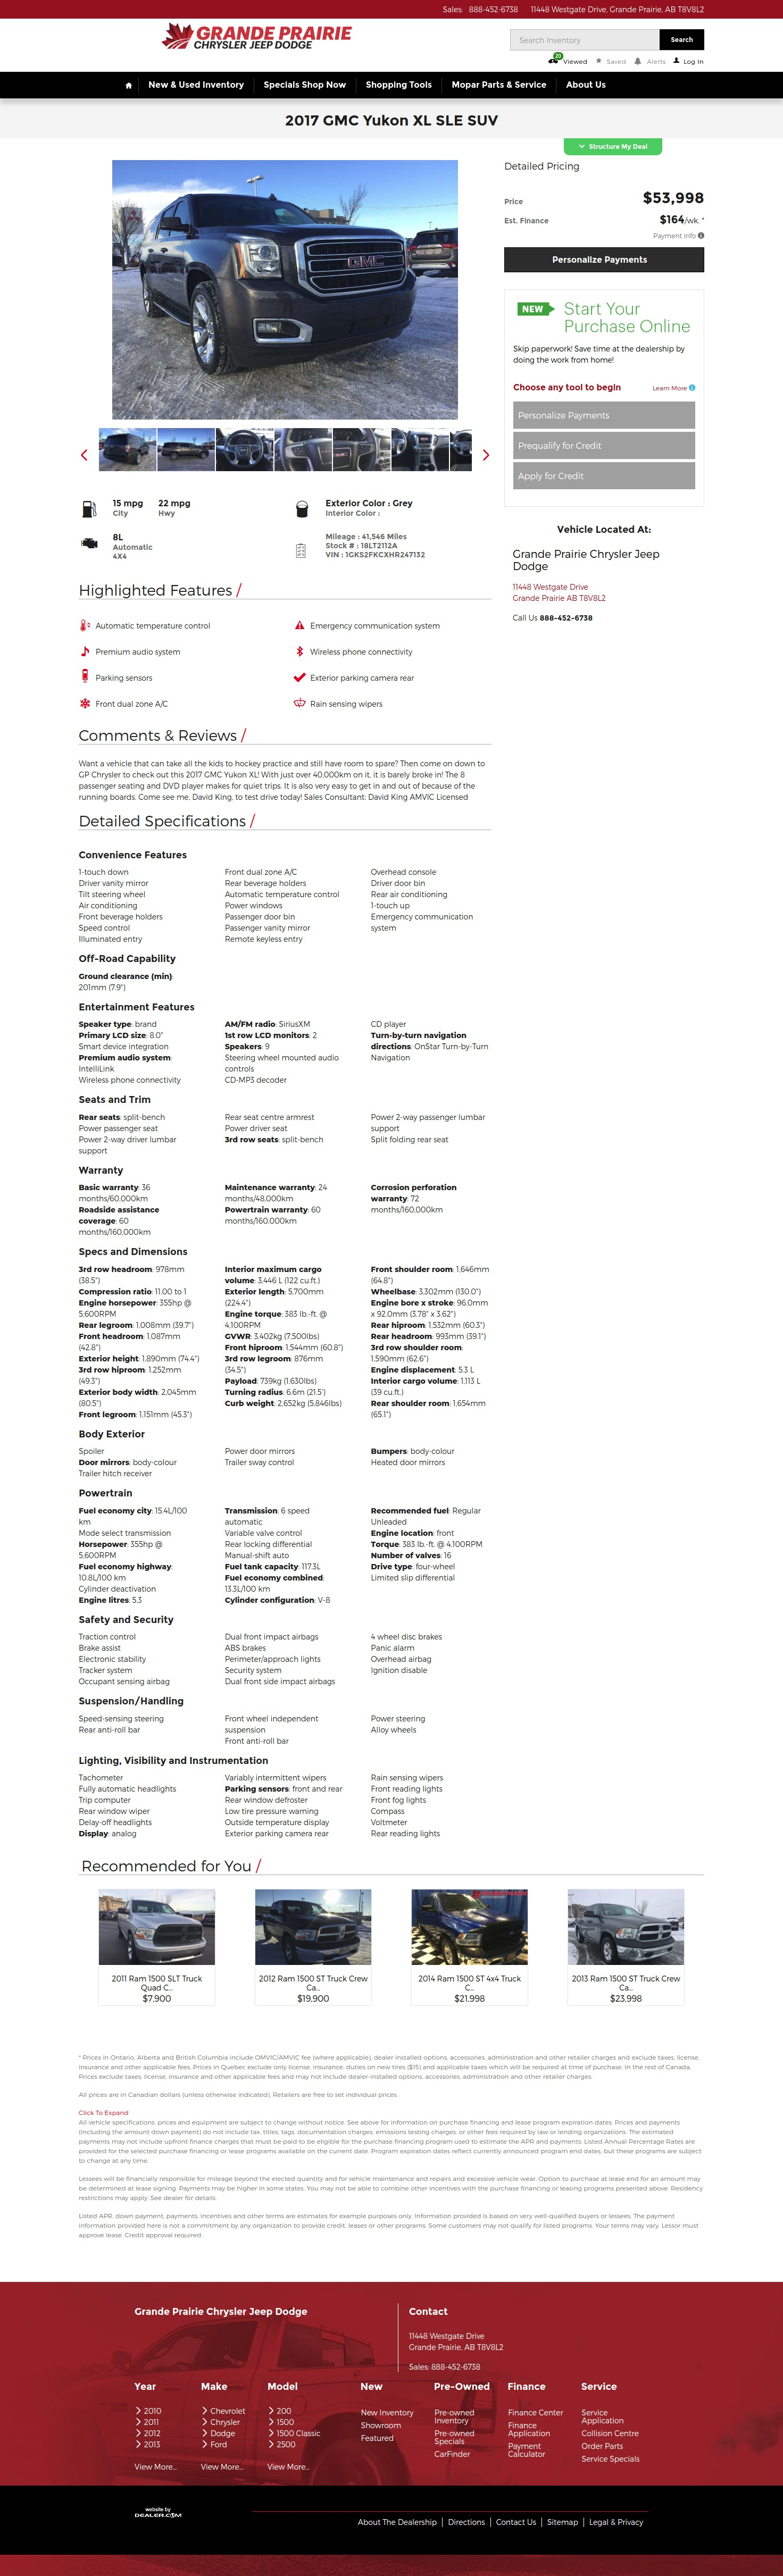car: (484, 450, 490, 462)
